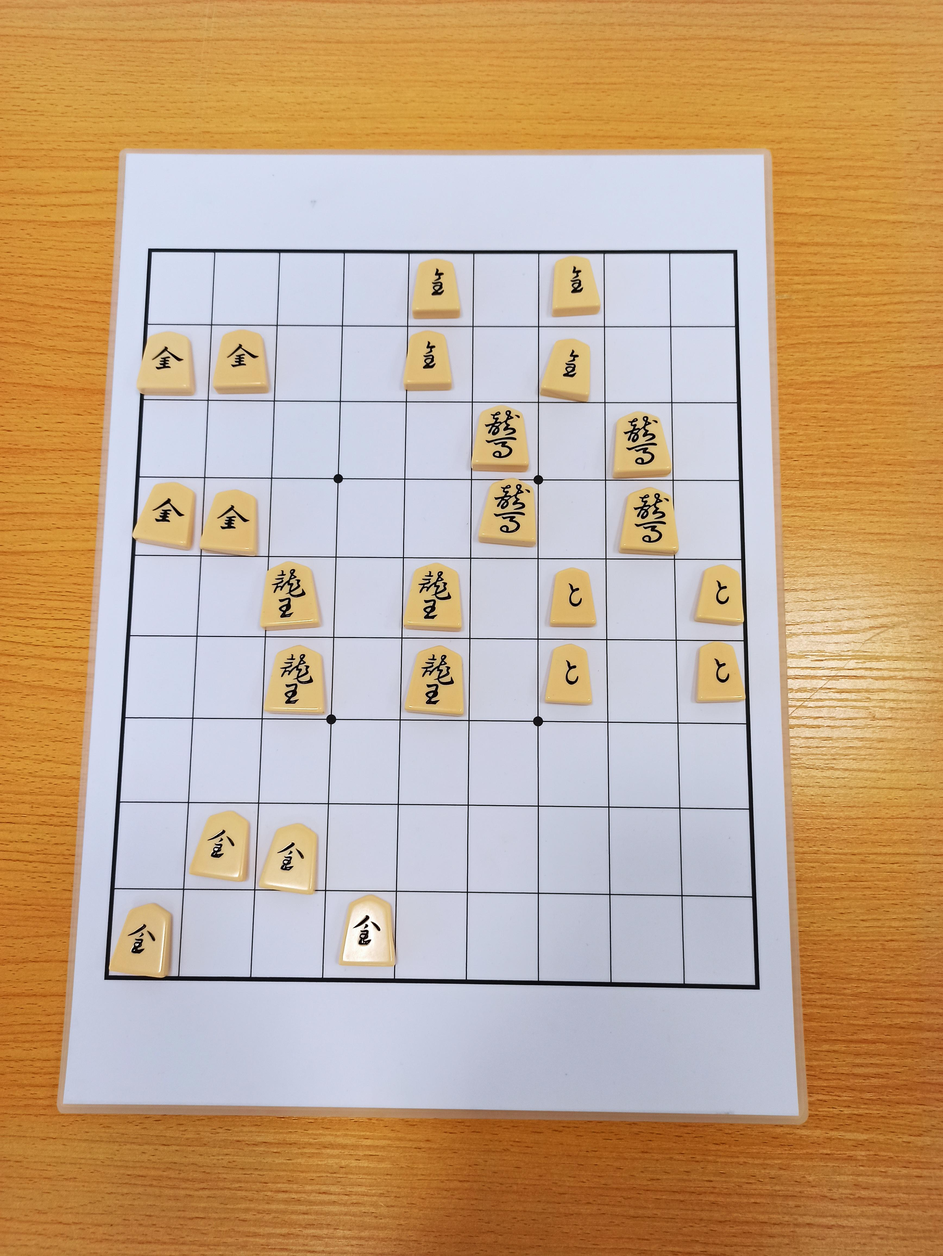board: (108, 249, 757, 988)
